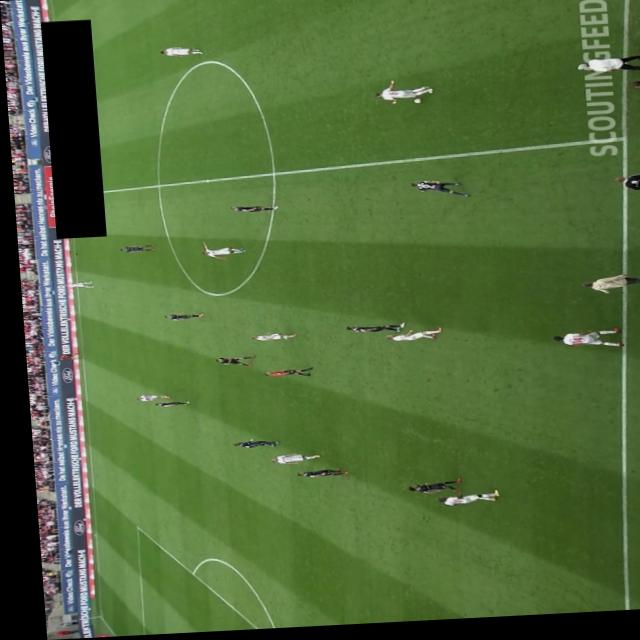player: (371, 81, 432, 109), (547, 333, 618, 355), (406, 182, 467, 203), (427, 494, 492, 510), (197, 240, 242, 262), (400, 482, 453, 498), (379, 331, 437, 345), (340, 325, 400, 337), (263, 454, 313, 467), (226, 439, 273, 451), (158, 47, 203, 59), (209, 356, 249, 369), (289, 470, 340, 480), (245, 333, 292, 343), (227, 206, 275, 214), (115, 244, 152, 254), (159, 312, 198, 321), (129, 393, 164, 403), (61, 281, 89, 289), (148, 402, 184, 408)
referee: (258, 368, 308, 380), (53, 353, 75, 360)
